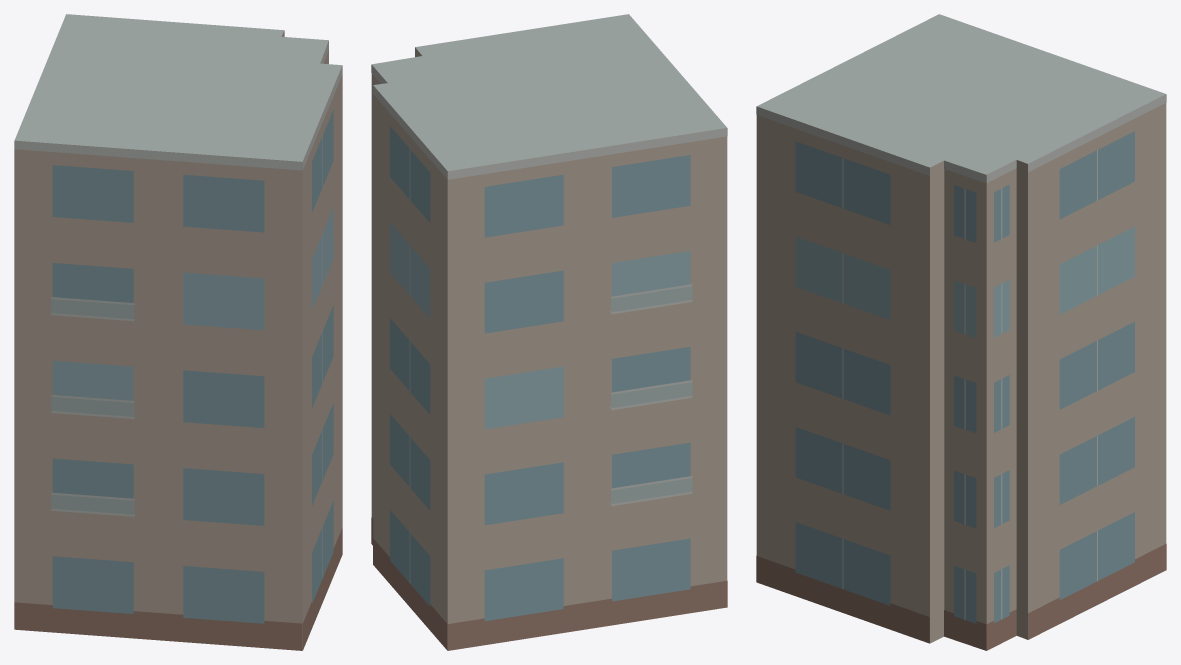
Rendered from survey-upis-32890464.glb.
The picture shows the model from 3 angles, left to right: view 1: azimuth 30°, elevation 25°; view 2: azimuth 150°, elevation 25°; view 3: azimuth 270°, elevation 25°; orthographic projection. The views are drawn at different scales.
Visible parts, largest first — view 1: survey-upis-32890464.tmp; view 2: survey-upis-32890464.tmp; view 3: survey-upis-32890464.tmp.
Boxes of the visible parts, x1,y1,x2,y2 form: survey-upis-32890464.tmp: (14,14,342,650); survey-upis-32890464.tmp: (371,14,727,650); survey-upis-32890464.tmp: (756,14,1166,650).
Size of the model in its own units: 10.01 by 13.8 by 10.78.
